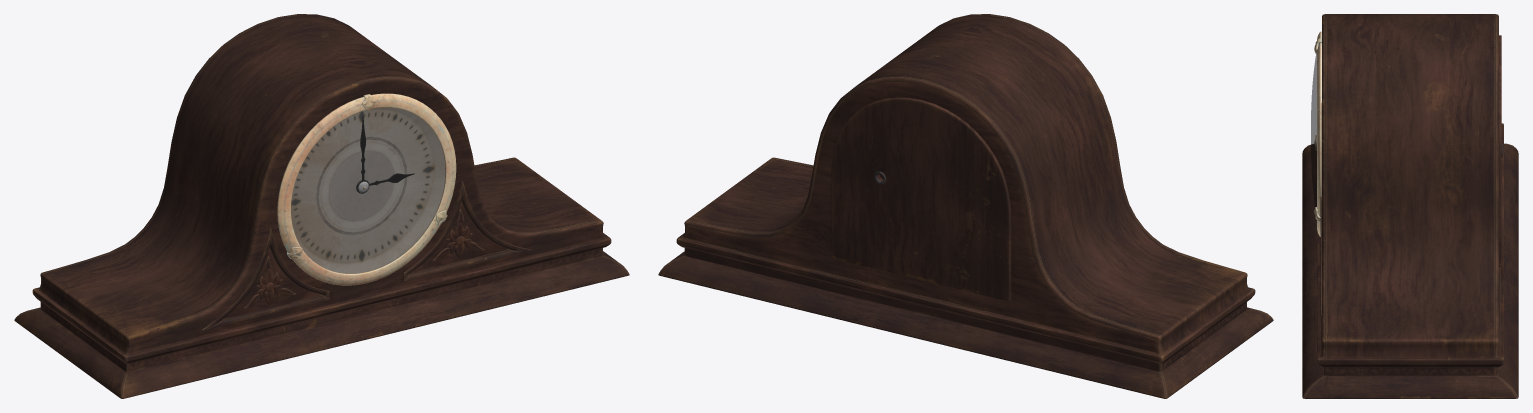
Rendered from clock.obj.
3 views of the same model, side by side, from view 1: azimuth 30°, elevation 25°; view 2: azimuth 150°, elevation 25°; view 3: azimuth 270°, elevation 25° (orthographic).
Visible parts, largest first — view 1: mantel_clock_01, mantel_clock_01_glass; view 2: mantel_clock_01; view 3: mantel_clock_01, mantel_clock_01_glass.
Boxes of the visible parts, <box> form: mantel_clock_01: <box>14,14,629,398</box>; mantel_clock_01_glass: <box>291,107,445,273</box>; mantel_clock_01: <box>658,14,1273,398</box>; mantel_clock_01: <box>1302,14,1518,398</box>; mantel_clock_01_glass: <box>1311,53,1316,207</box>.
Size of the model in its own units: 0.3423 by 0.1605 by 0.1262.
2 materials, 2 textured.
